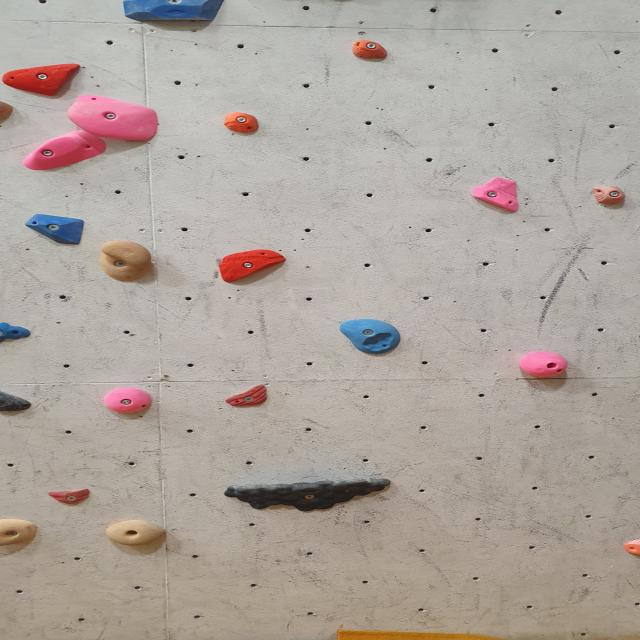Crimp: (128, 0, 240, 30), (1, 65, 82, 96), (217, 250, 286, 284), (468, 176, 525, 212), (226, 385, 273, 408), (0, 321, 32, 343), (50, 489, 96, 504)
Jug: (226, 475, 395, 513), (66, 97, 160, 142), (100, 240, 155, 282), (115, 519, 178, 547), (0, 518, 42, 547)
Pinch: (516, 350, 570, 380), (104, 388, 154, 414), (223, 113, 262, 135), (353, 41, 392, 61), (591, 186, 626, 208)
Sloper: (25, 130, 111, 172), (339, 320, 406, 353), (32, 214, 93, 244), (0, 389, 32, 412)
